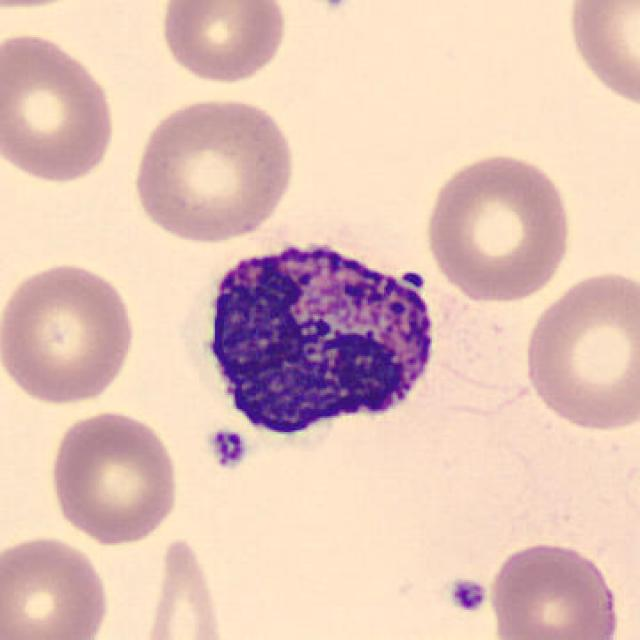Basophil: (188, 224, 450, 451)
Platelets: (204, 425, 249, 472), (446, 575, 491, 615), (318, 0, 356, 14)
RBC: (126, 92, 299, 245), (420, 148, 576, 305), (0, 258, 142, 408), (519, 264, 638, 436), (45, 406, 183, 546), (0, 28, 121, 187), (484, 536, 624, 640), (0, 530, 114, 640), (154, 0, 291, 86), (139, 534, 229, 640), (560, 0, 640, 115), (0, 0, 98, 12)
